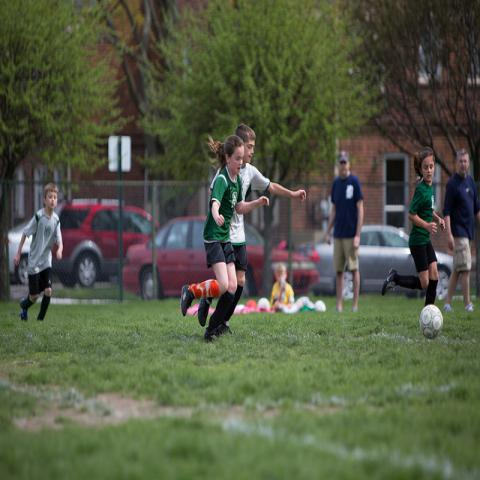car: (126, 218, 265, 297), (52, 204, 160, 288), (358, 224, 454, 302), (272, 248, 320, 296), (6, 218, 32, 284)
